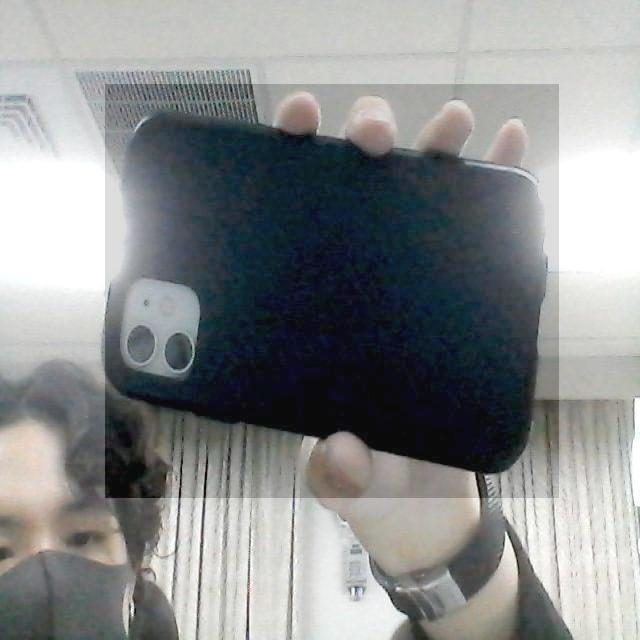phone: (103, 103, 547, 475)
